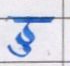u_matra: (8, 43, 32, 57)
